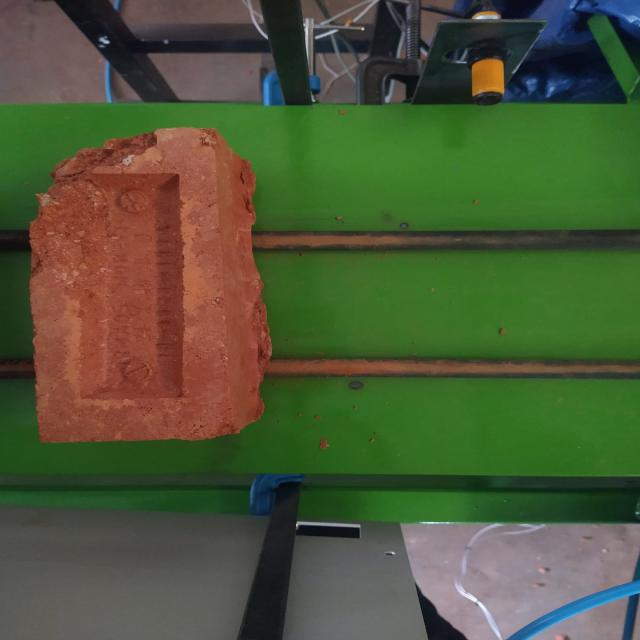bricks_ruin: (28, 126, 271, 443)
